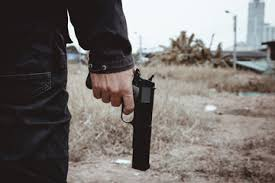gun: (85, 65, 160, 175)
